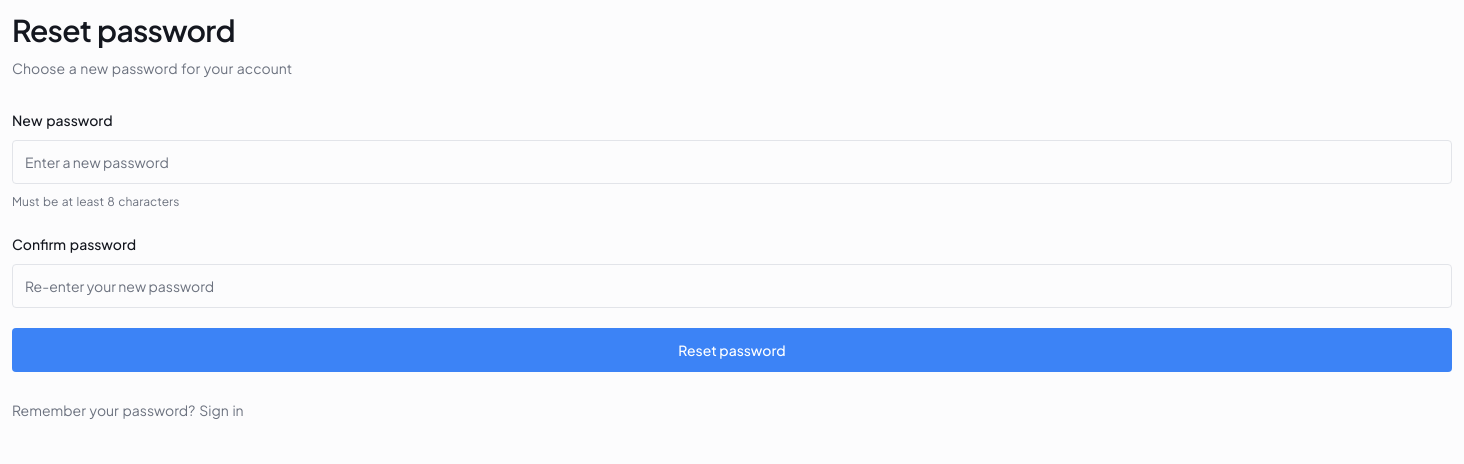
ResetPasswordForm › shows validation error when password is shorter than 8 characters
Type "short1" into the password field labelled "New password".
click(732, 162); type("short1")  # box [12,140,1452,184]
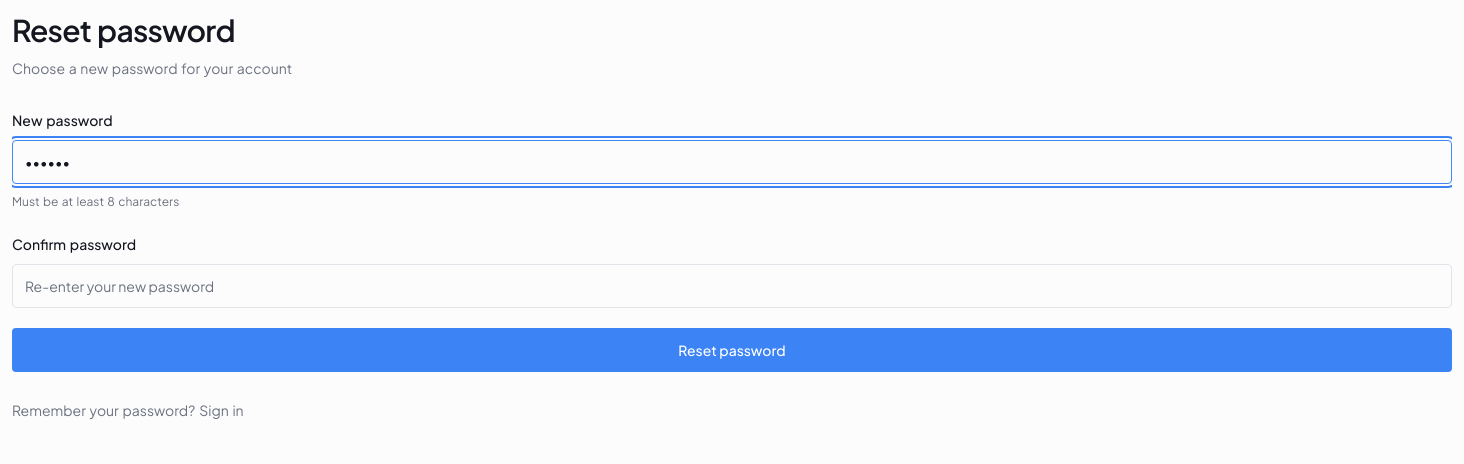
Type "short1" into the password field labelled "Confirm password".
click(732, 286); type("short1")  # box [12,264,1452,308]
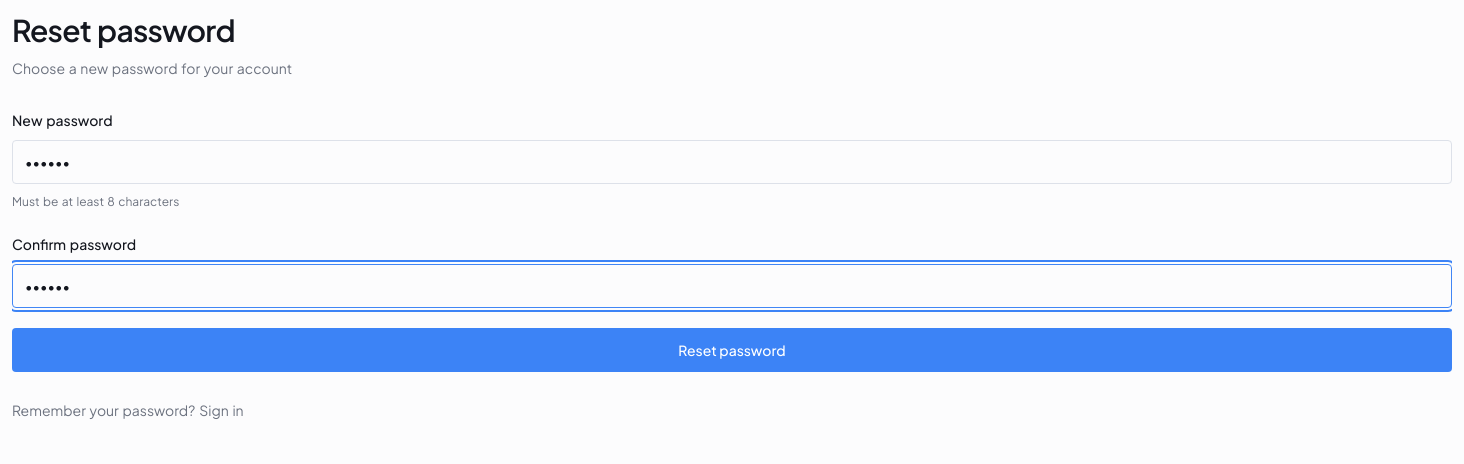
Click the button "Reset password".
click(732, 350)  # box [12,328,1452,372]
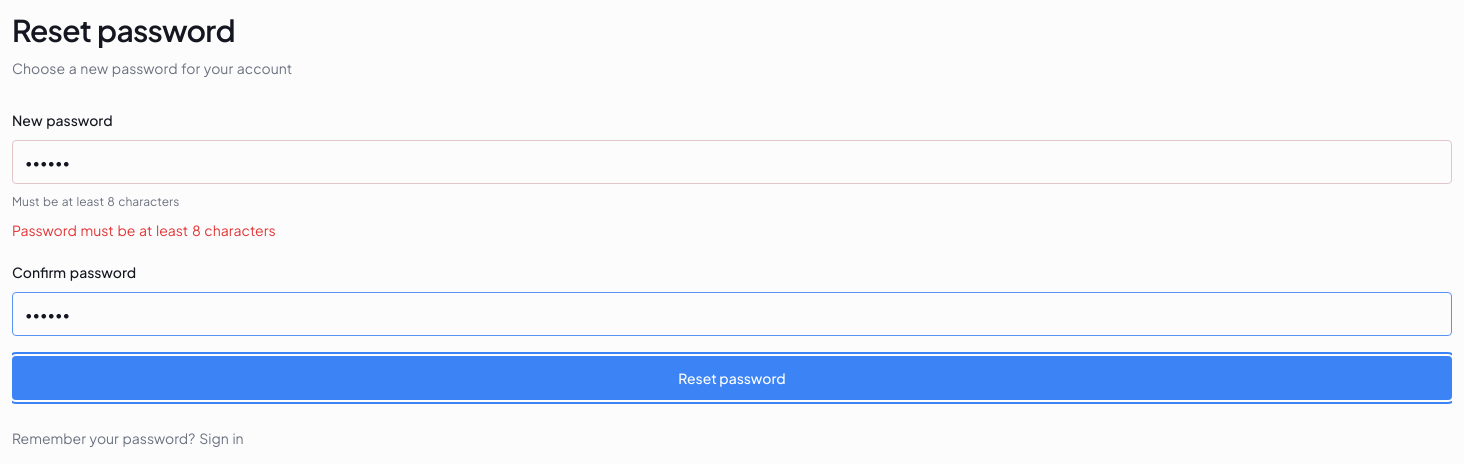
Expected: the message shows "at least 8 characters", [12,221,276,239]
